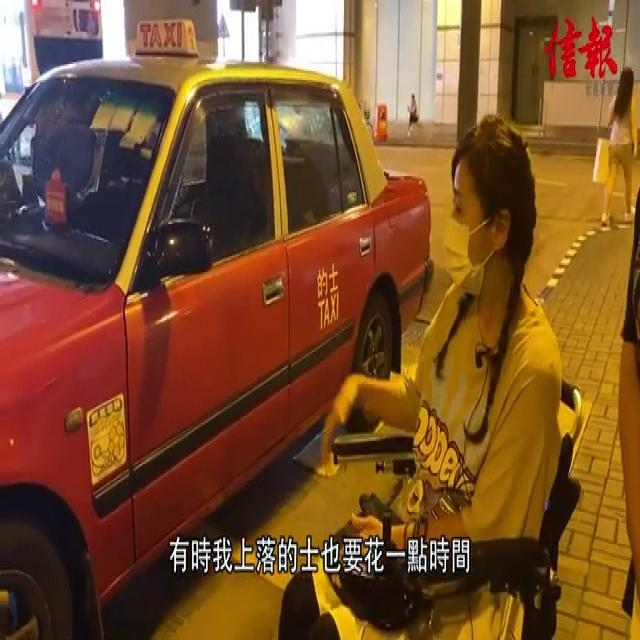wheelchairs: (325, 360, 595, 636)
